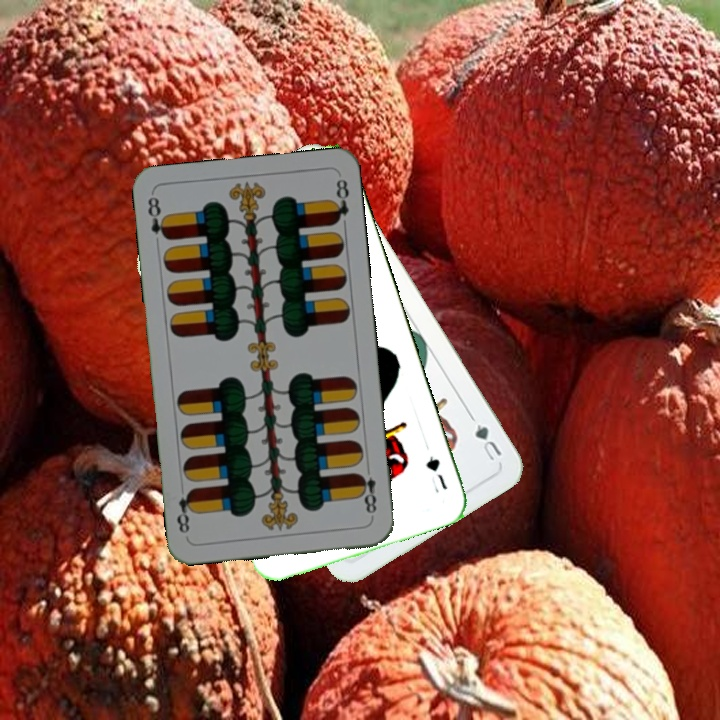E8: (354, 461, 379, 521), (143, 192, 171, 243)
GU: (471, 419, 505, 464), (422, 452, 450, 492)
